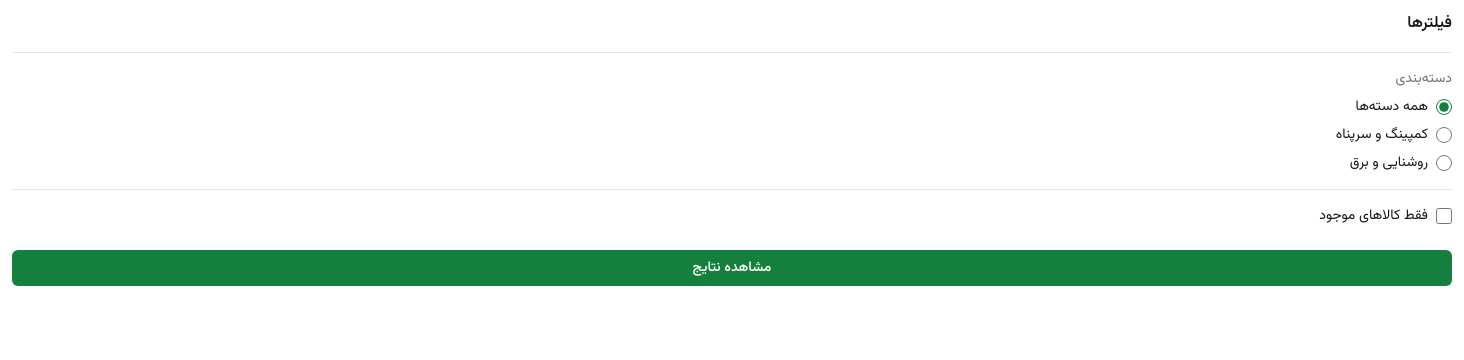
Scenario: ProductFilters › hides the clear button again once every filter is deselected
The width and height of the screenshot is (1464, 360).
Click the checkbox labelled "فقط کالاهای موجود" at (1444, 216), box [1436,208,1452,224]
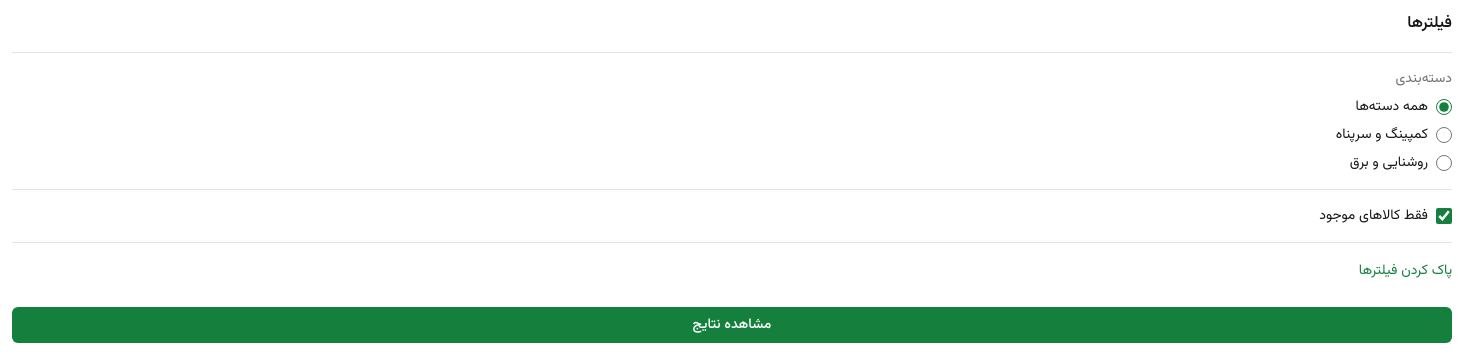
Now the button "پاک کردن فیلترها" is shown, box [1359,261,1452,281]
Click the checkbox labelled "فقط کالاهای موجود" at (1444, 216), box [1436,208,1452,224]
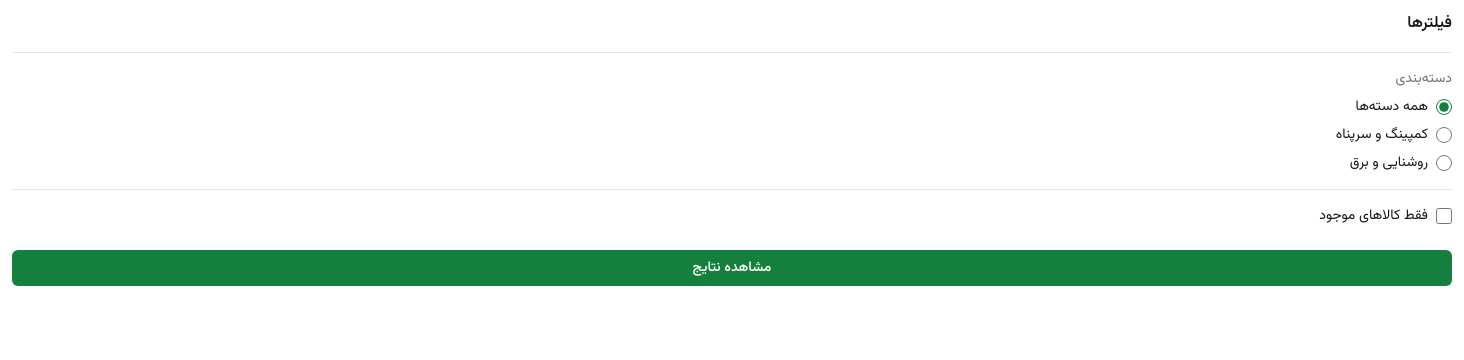
Now the button "پاک کردن فیلترها" is gone
